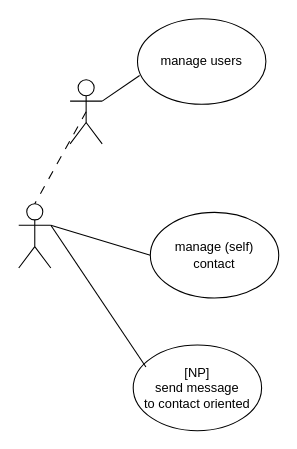
Some shapes in this 297 by 449 pixel diagram are drawn without their labels. The centre of each missing label's shape, as x and y in pixels:
Admin: the point at 85,111
User: the point at 34,235
